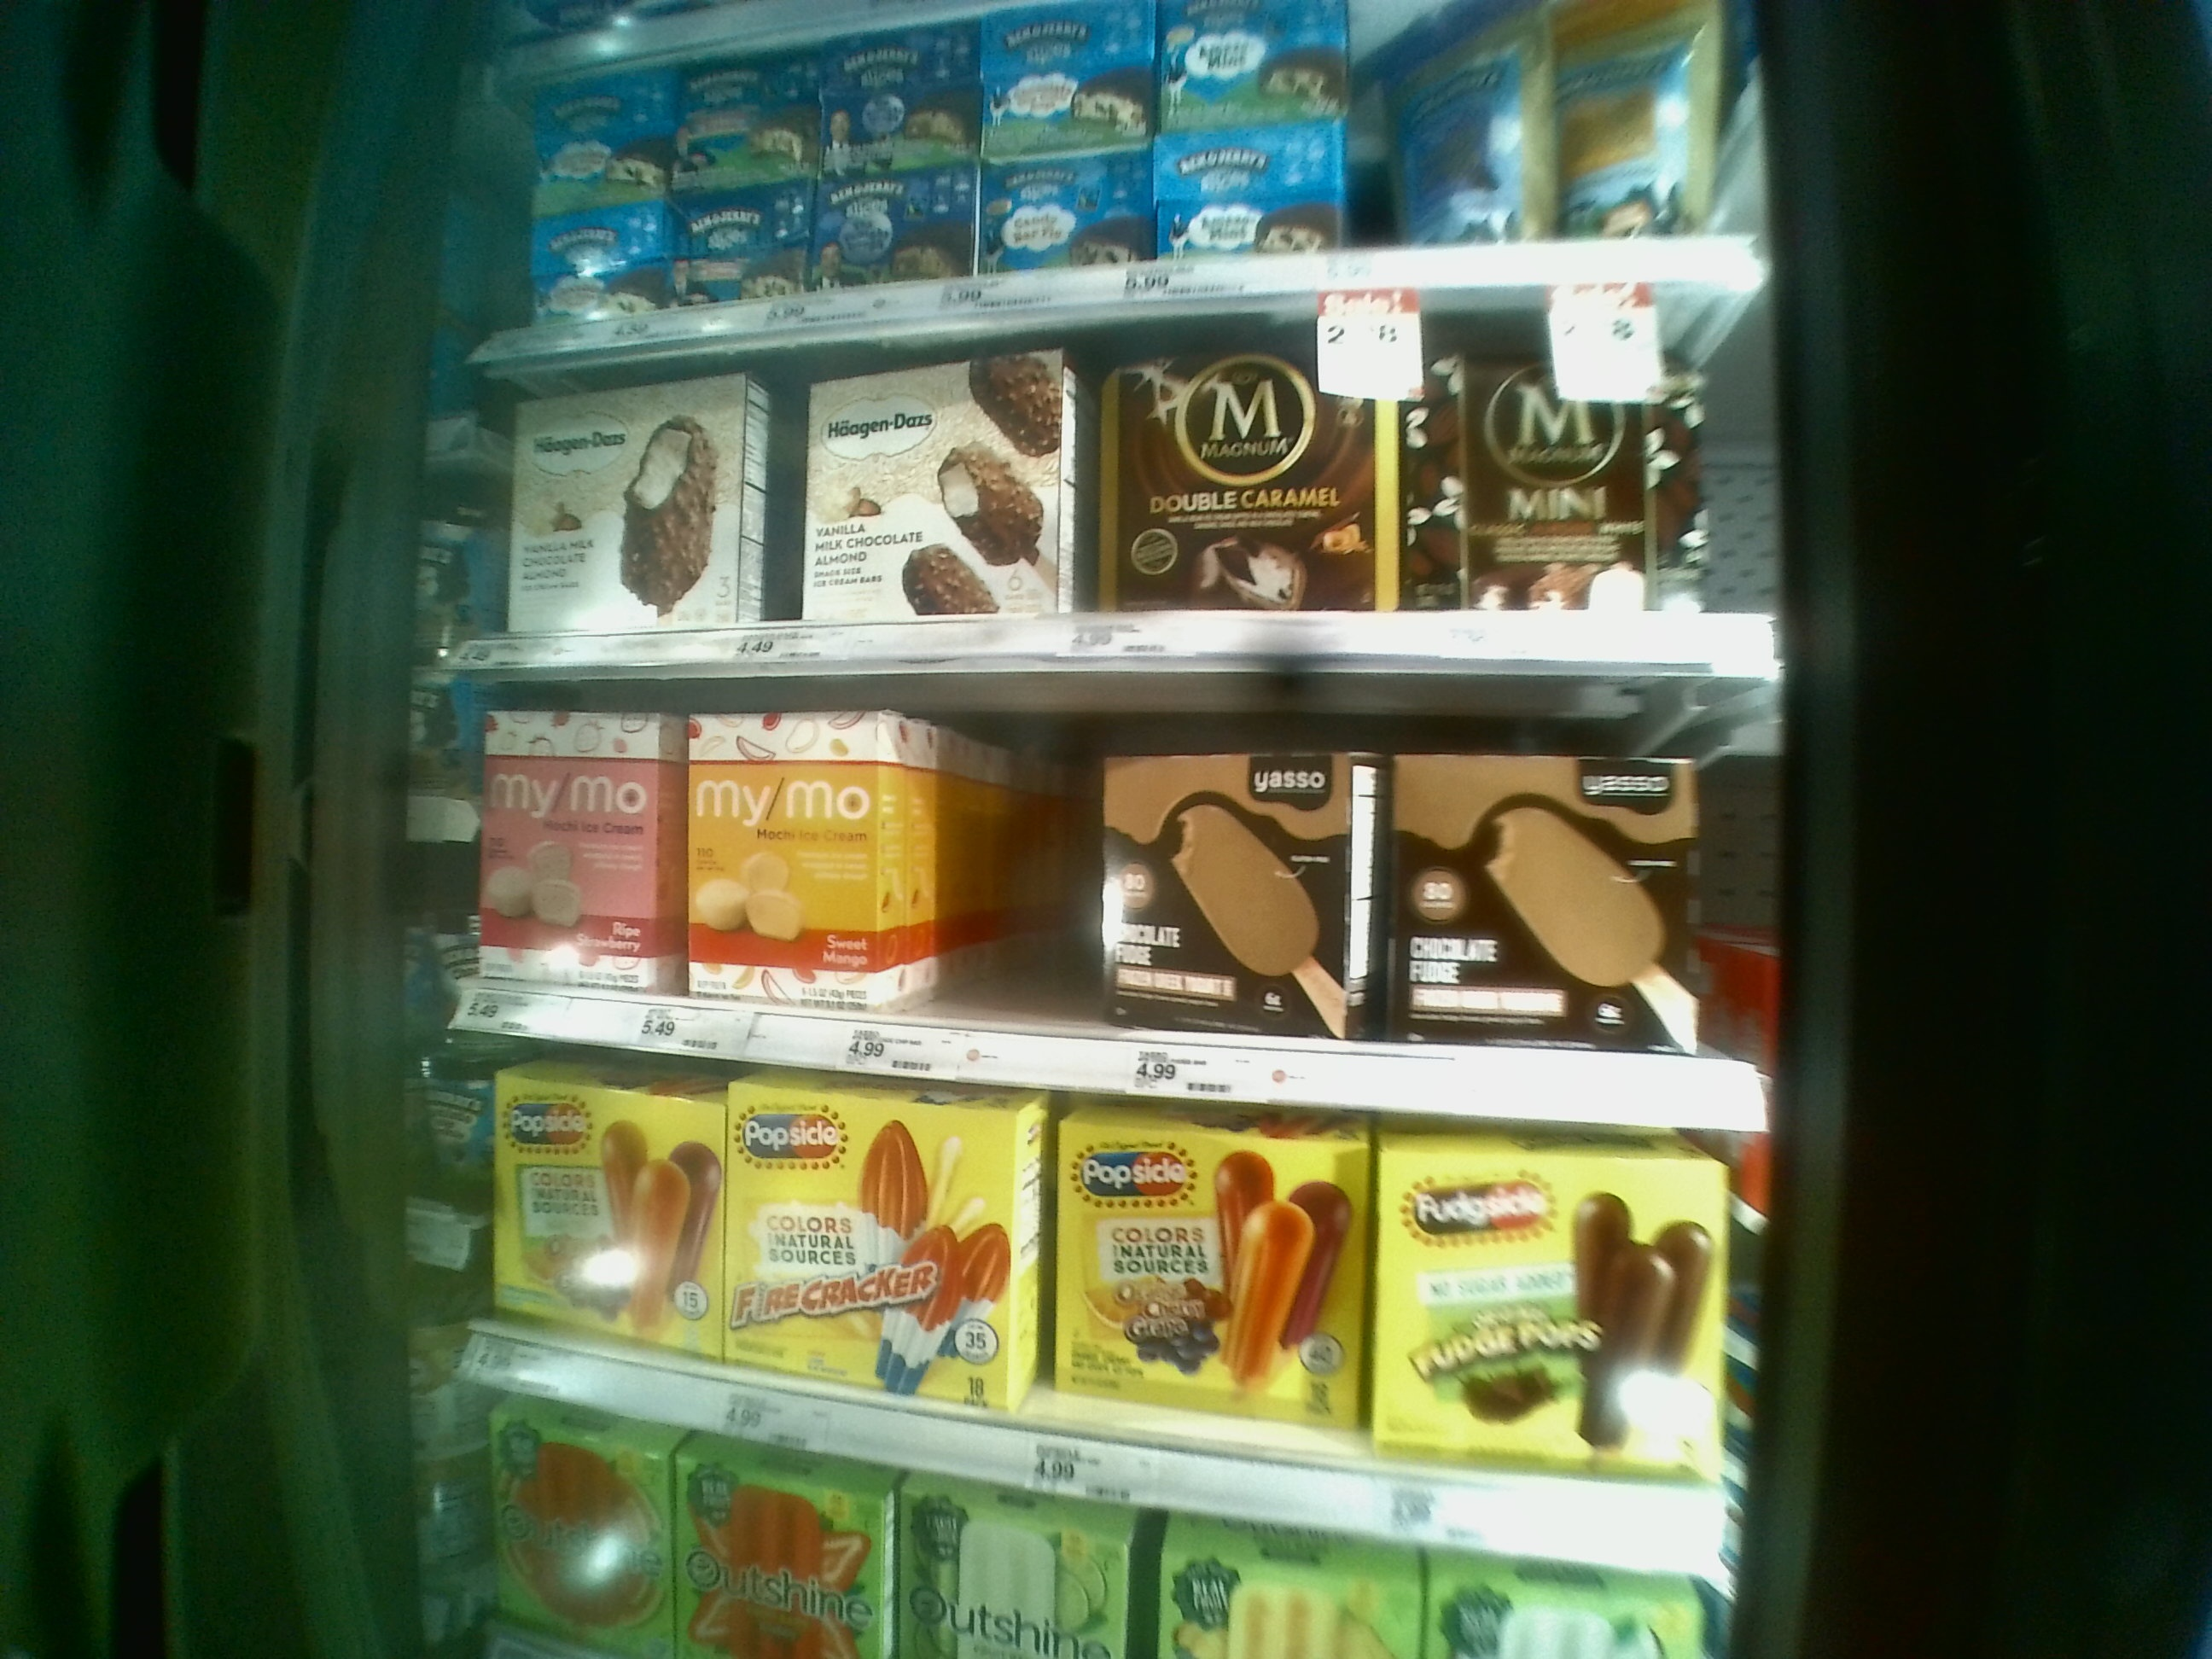shelf: (444, 1030, 1726, 1579), (465, 667, 1780, 1134), (465, 279, 1787, 671)
